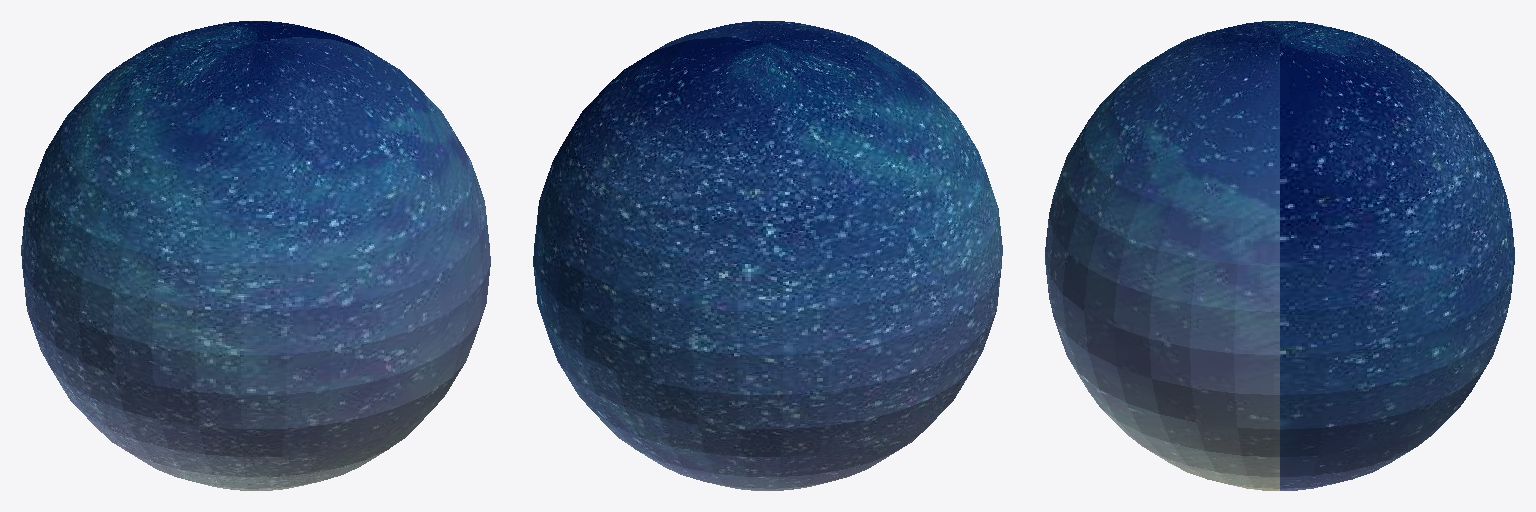
The picture shows the model from 3 angles: view 1: azimuth 30°, elevation 25°; view 2: azimuth 150°, elevation 25°; view 3: azimuth 270°, elevation 25°; orthographic projection.
Parts seen in each view (by area): view 1: 球; view 2: 球; view 3: 球.
Boxes of the visible parts, x1=… form: 球: x1=21, y1=21, x2=490, y2=490; 球: x1=533, y1=21, x2=1002, y2=490; 球: x1=1045, y1=21, x2=1514, y2=490.
Size of the model in its own units: 20.62 by 20.62 by 20.62.
Materials: 1 (1 with a texture image).